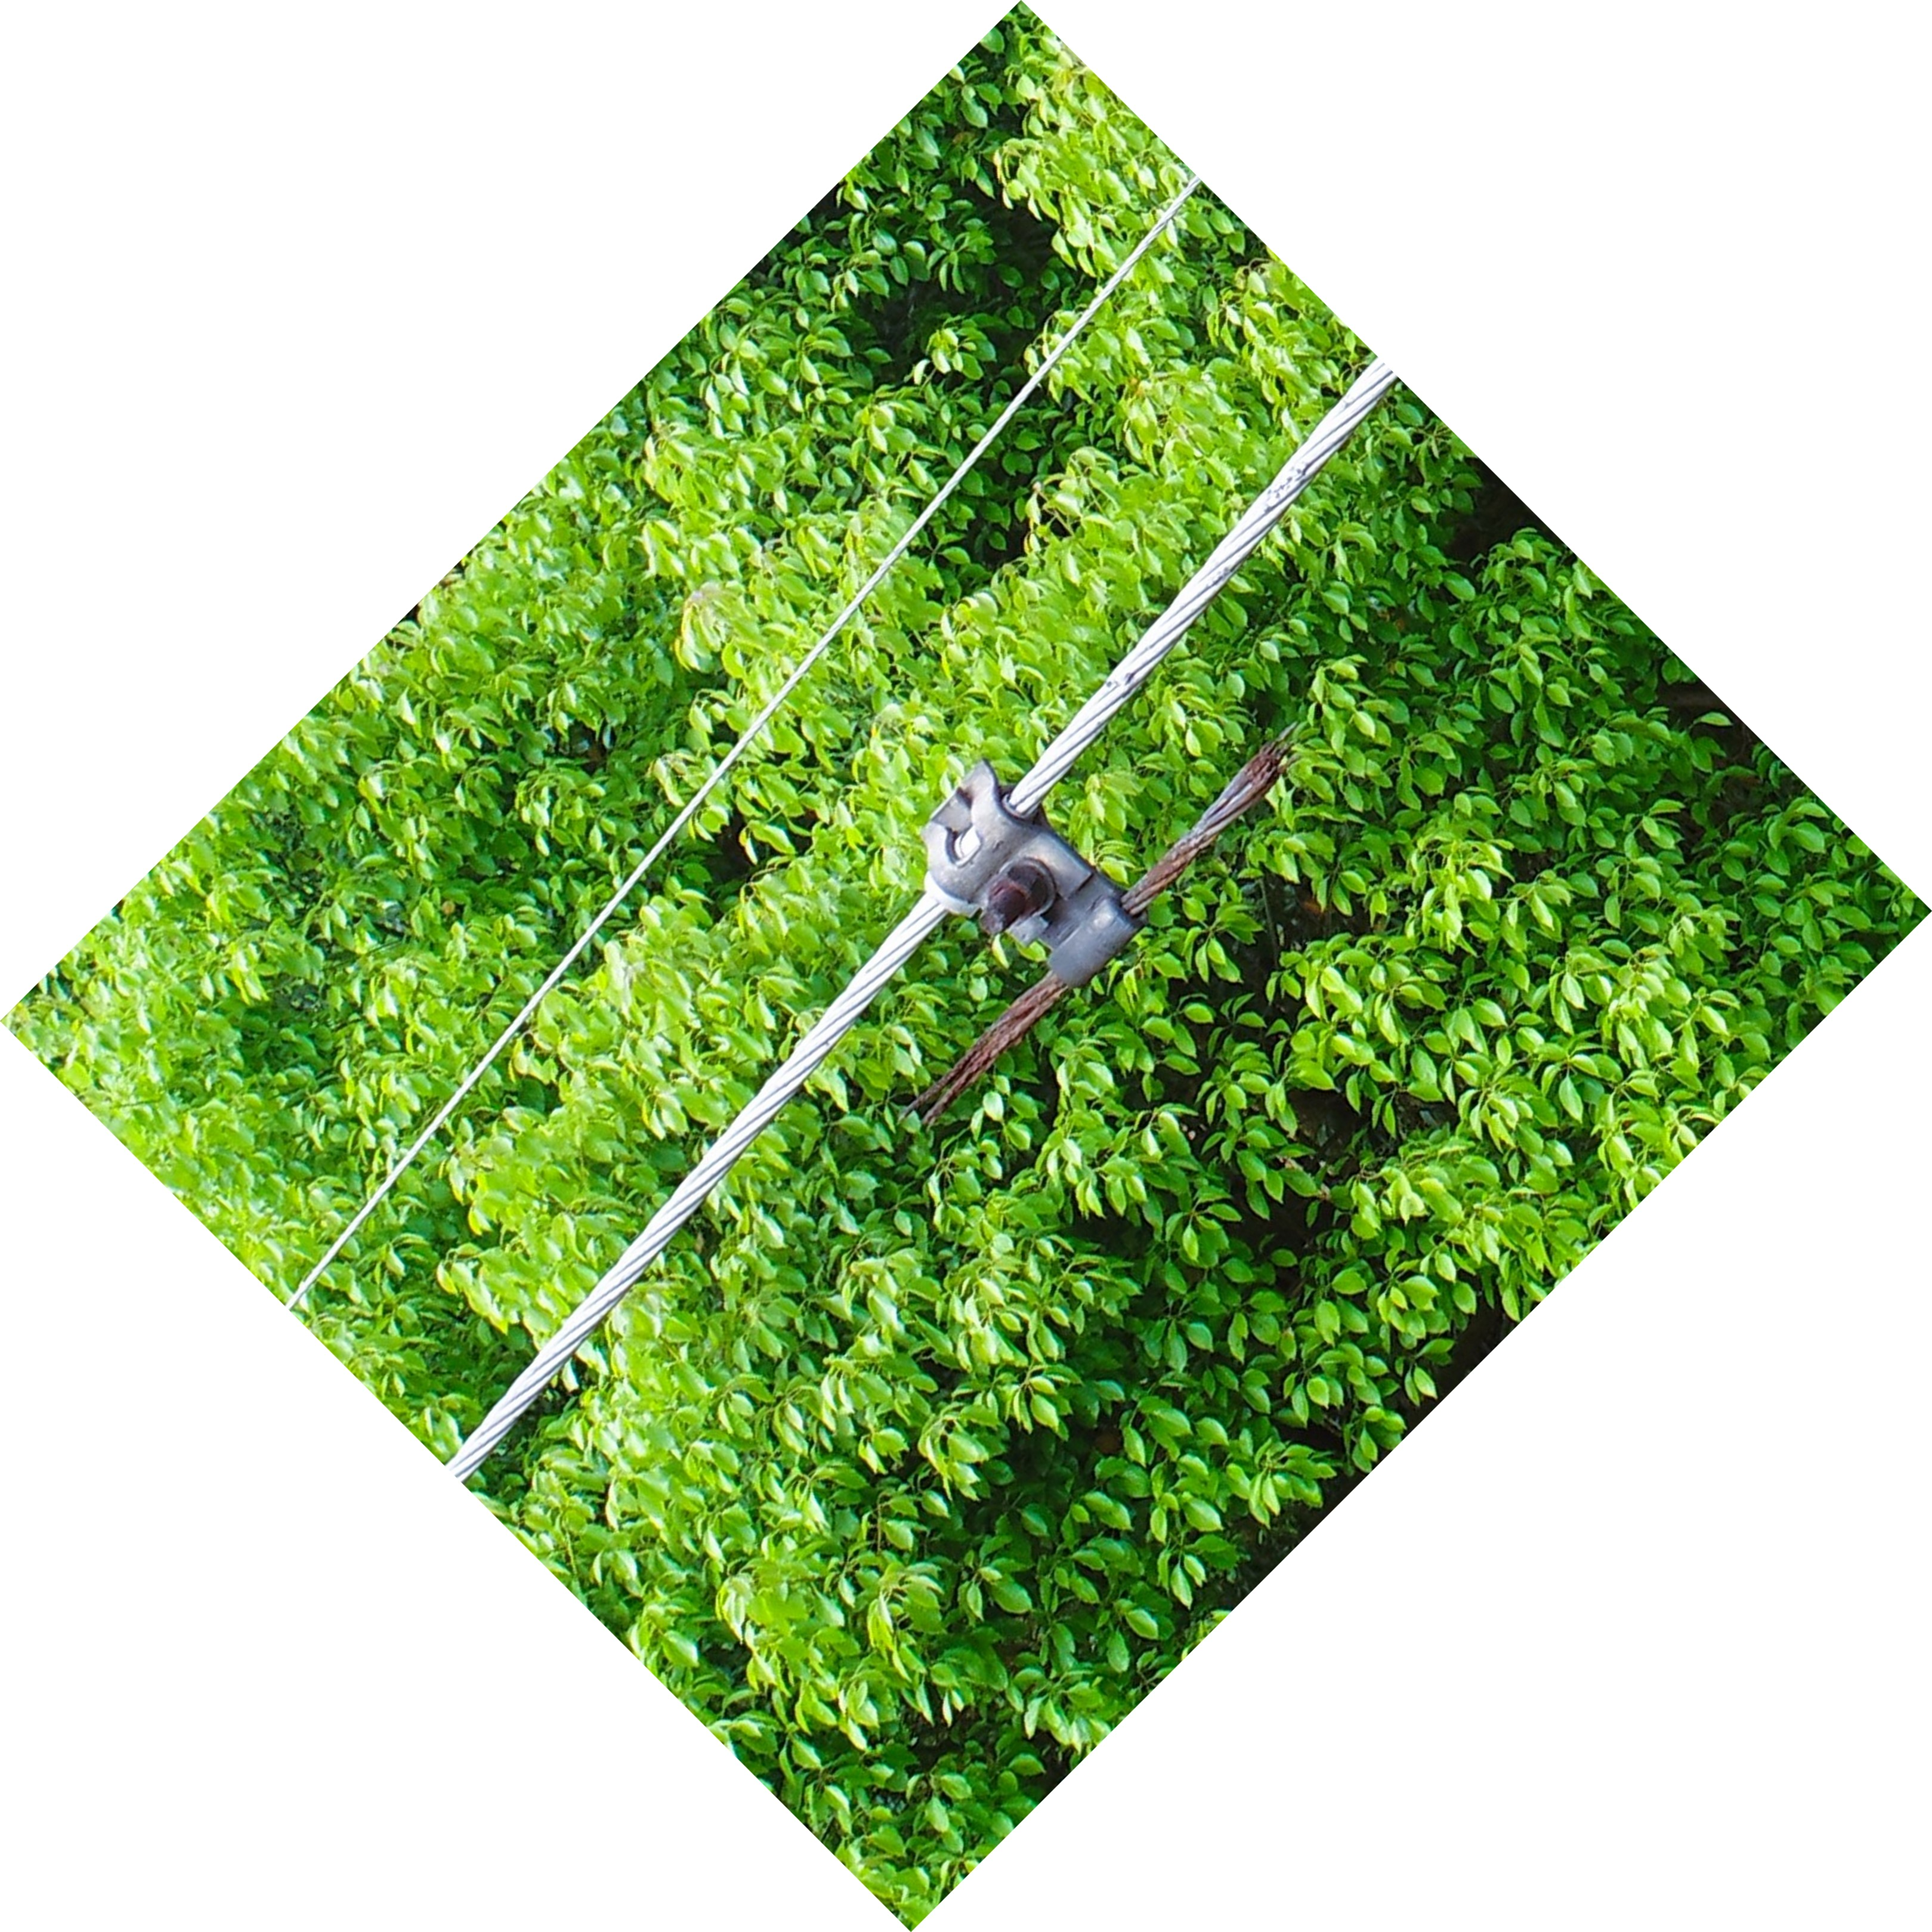Damage of shockproof hammer: (817, 674, 1330, 1162)
